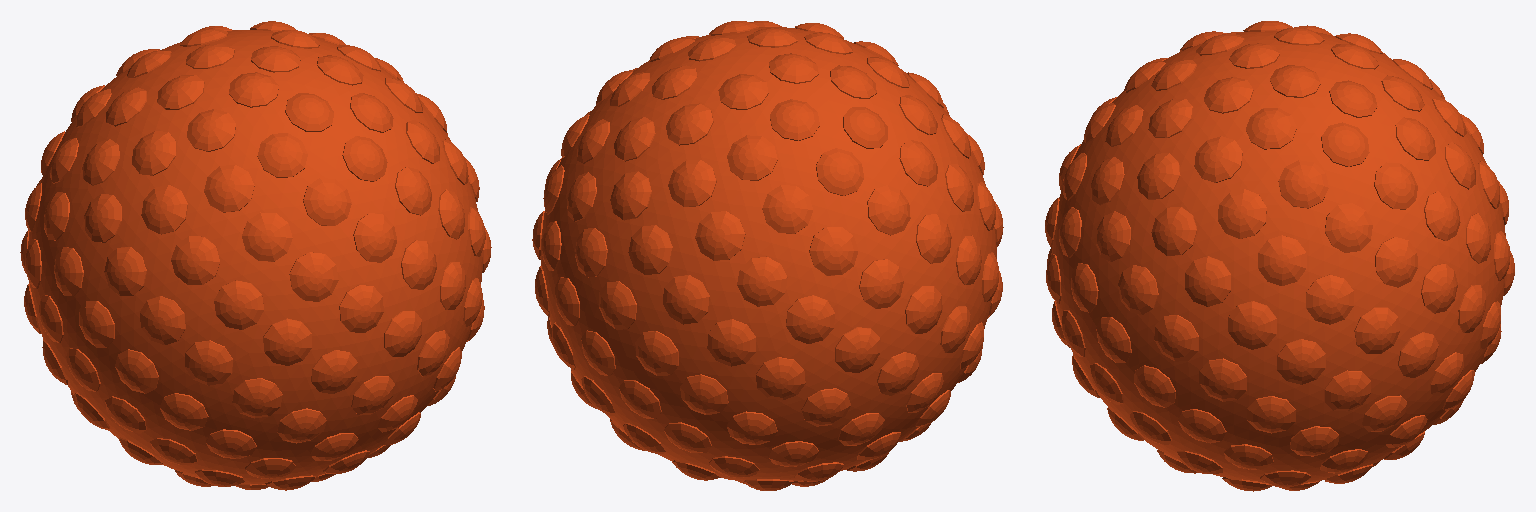
URDF robot description (cb_spikyball_spiky_cd):
<?xml version="1.0"?>
<!-- A22 textured ball (dome, 150 features, h 0.9 mm), outer R 24.0 mm, 30.0 g. Generated by FoundationTouch tools/contactbench/spikyball_assets.py (A22) -->
<robot name="cb_spikyball_spiky_cd">
  <material name="c"><color rgba="0.85 0.35 0.15 1.0"/></material>
  <link name="object">
    <visual><origin xyz="0 0 0" rpy="0 0 0"/><geometry><mesh filename="spikyball_spiky_cd.obj" scale="1 1 1"/></geometry><material name="c"/></visual>
    <collision><origin xyz="0 0 0" rpy="0 0 0"/><geometry><sphere radius="0.023100"/></geometry></collision>
    <collision><origin xyz="0 0 0" rpy="0 0 0"/><geometry><mesh filename="spike_000.obj" scale="1 1 1"/></geometry></collision>
    <collision><origin xyz="0 0 0" rpy="0 0 0"/><geometry><mesh filename="spike_001.obj" scale="1 1 1"/></geometry></collision>
    <collision><origin xyz="0 0 0" rpy="0 0 0"/><geometry><mesh filename="spike_002.obj" scale="1 1 1"/></geometry></collision>
    <collision><origin xyz="0 0 0" rpy="0 0 0"/><geometry><mesh filename="spike_003.obj" scale="1 1 1"/></geometry></collision>
    <collision><origin xyz="0 0 0" rpy="0 0 0"/><geometry><mesh filename="spike_004.obj" scale="1 1 1"/></geometry></collision>
    <collision><origin xyz="0 0 0" rpy="0 0 0"/><geometry><mesh filename="spike_005.obj" scale="1 1 1"/></geometry></collision>
    <collision><origin xyz="0 0 0" rpy="0 0 0"/><geometry><mesh filename="spike_006.obj" scale="1 1 1"/></geometry></collision>
    <collision><origin xyz="0 0 0" rpy="0 0 0"/><geometry><mesh filename="spike_007.obj" scale="1 1 1"/></geometry></collision>
    <collision><origin xyz="0 0 0" rpy="0 0 0"/><geometry><mesh filename="spike_008.obj" scale="1 1 1"/></geometry></collision>
    <collision><origin xyz="0 0 0" rpy="0 0 0"/><geometry><mesh filename="spike_009.obj" scale="1 1 1"/></geometry></collision>
    <collision><origin xyz="0 0 0" rpy="0 0 0"/><geometry><mesh filename="spike_010.obj" scale="1 1 1"/></geometry></collision>
    <collision><origin xyz="0 0 0" rpy="0 0 0"/><geometry><mesh filename="spike_011.obj" scale="1 1 1"/></geometry></collision>
    <collision><origin xyz="0 0 0" rpy="0 0 0"/><geometry><mesh filename="spike_012.obj" scale="1 1 1"/></geometry></collision>
    <collision><origin xyz="0 0 0" rpy="0 0 0"/><geometry><mesh filename="spike_013.obj" scale="1 1 1"/></geometry></collision>
    <collision><origin xyz="0 0 0" rpy="0 0 0"/><geometry><mesh filename="spike_014.obj" scale="1 1 1"/></geometry></collision>
    <collision><origin xyz="0 0 0" rpy="0 0 0"/><geometry><mesh filename="spike_015.obj" scale="1 1 1"/></geometry></collision>
    <collision><origin xyz="0 0 0" rpy="0 0 0"/><geometry><mesh filename="spike_016.obj" scale="1 1 1"/></geometry></collision>
    <collision><origin xyz="0 0 0" rpy="0 0 0"/><geometry><mesh filename="spike_017.obj" scale="1 1 1"/></geometry></collision>
    <collision><origin xyz="0 0 0" rpy="0 0 0"/><geometry><mesh filename="spike_018.obj" scale="1 1 1"/></geometry></collision>
    <collision><origin xyz="0 0 0" rpy="0 0 0"/><geometry><mesh filename="spike_019.obj" scale="1 1 1"/></geometry></collision>
    <collision><origin xyz="0 0 0" rpy="0 0 0"/><geometry><mesh filename="spike_020.obj" scale="1 1 1"/></geometry></collision>
    <collision><origin xyz="0 0 0" rpy="0 0 0"/><geometry><mesh filename="spike_021.obj" scale="1 1 1"/></geometry></collision>
    <collision><origin xyz="0 0 0" rpy="0 0 0"/><geometry><mesh filename="spike_022.obj" scale="1 1 1"/></geometry></collision>
    <collision><origin xyz="0 0 0" rpy="0 0 0"/><geometry><mesh filename="spike_023.obj" scale="1 1 1"/></geometry></collision>
    <collision><origin xyz="0 0 0" rpy="0 0 0"/><geometry><mesh filename="spike_024.obj" scale="1 1 1"/></geometry></collision>
    <collision><origin xyz="0 0 0" rpy="0 0 0"/><geometry><mesh filename="spike_025.obj" scale="1 1 1"/></geometry></collision>
    <collision><origin xyz="0 0 0" rpy="0 0 0"/><geometry><mesh filename="spike_026.obj" scale="1 1 1"/></geometry></collision>
    <collision><origin xyz="0 0 0" rpy="0 0 0"/><geometry><mesh filename="spike_027.obj" scale="1 1 1"/></geometry></collision>
    <collision><origin xyz="0 0 0" rpy="0 0 0"/><geometry><mesh filename="spike_028.obj" scale="1 1 1"/></geometry></collision>
    <collision><origin xyz="0 0 0" rpy="0 0 0"/><geometry><mesh filename="spike_029.obj" scale="1 1 1"/></geometry></collision>
    <collision><origin xyz="0 0 0" rpy="0 0 0"/><geometry><mesh filename="spike_030.obj" scale="1 1 1"/></geometry></collision>
    <collision><origin xyz="0 0 0" rpy="0 0 0"/><geometry><mesh filename="spike_031.obj" scale="1 1 1"/></geometry></collision>
    <collision><origin xyz="0 0 0" rpy="0 0 0"/><geometry><mesh filename="spike_032.obj" scale="1 1 1"/></geometry></collision>
    <collision><origin xyz="0 0 0" rpy="0 0 0"/><geometry><mesh filename="spike_033.obj" scale="1 1 1"/></geometry></collision>
    <collision><origin xyz="0 0 0" rpy="0 0 0"/><geometry><mesh filename="spike_034.obj" scale="1 1 1"/></geometry></collision>
    <collision><origin xyz="0 0 0" rpy="0 0 0"/><geometry><mesh filename="spike_035.obj" scale="1 1 1"/></geometry></collision>
    <collision><origin xyz="0 0 0" rpy="0 0 0"/><geometry><mesh filename="spike_036.obj" scale="1 1 1"/></geometry></collision>
    <collision><origin xyz="0 0 0" rpy="0 0 0"/><geometry><mesh filename="spike_037.obj" scale="1 1 1"/></geometry></collision>
    <collision><origin xyz="0 0 0" rpy="0 0 0"/><geometry><mesh filename="spike_038.obj" scale="1 1 1"/></geometry></collision>
    <collision><origin xyz="0 0 0" rpy="0 0 0"/><geometry><mesh filename="spike_039.obj" scale="1 1 1"/></geometry></collision>
    <collision><origin xyz="0 0 0" rpy="0 0 0"/><geometry><mesh filename="spike_040.obj" scale="1 1 1"/></geometry></collision>
    <collision><origin xyz="0 0 0" rpy="0 0 0"/><geometry><mesh filename="spike_041.obj" scale="1 1 1"/></geometry></collision>
    <collision><origin xyz="0 0 0" rpy="0 0 0"/><geometry><mesh filename="spike_042.obj" scale="1 1 1"/></geometry></collision>
    <collision><origin xyz="0 0 0" rpy="0 0 0"/><geometry><mesh filename="spike_043.obj" scale="1 1 1"/></geometry></collision>
    <collision><origin xyz="0 0 0" rpy="0 0 0"/><geometry><mesh filename="spike_044.obj" scale="1 1 1"/></geometry></collision>
    <collision><origin xyz="0 0 0" rpy="0 0 0"/><geometry><mesh filename="spike_045.obj" scale="1 1 1"/></geometry></collision>
    <collision><origin xyz="0 0 0" rpy="0 0 0"/><geometry><mesh filename="spike_046.obj" scale="1 1 1"/></geometry></collision>
    <collision><origin xyz="0 0 0" rpy="0 0 0"/><geometry><mesh filename="spike_047.obj" scale="1 1 1"/></geometry></collision>
    <collision><origin xyz="0 0 0" rpy="0 0 0"/><geometry><mesh filename="spike_048.obj" scale="1 1 1"/></geometry></collision>
    <collision><origin xyz="0 0 0" rpy="0 0 0"/><geometry><mesh filename="spike_049.obj" scale="1 1 1"/></geometry></collision>
    <collision><origin xyz="0 0 0" rpy="0 0 0"/><geometry><mesh filename="spike_050.obj" scale="1 1 1"/></geometry></collision>
    <collision><origin xyz="0 0 0" rpy="0 0 0"/><geometry><mesh filename="spike_051.obj" scale="1 1 1"/></geometry></collision>
    <collision><origin xyz="0 0 0" rpy="0 0 0"/><geometry><mesh filename="spike_052.obj" scale="1 1 1"/></geometry></collision>
    <collision><origin xyz="0 0 0" rpy="0 0 0"/><geometry><mesh filename="spike_053.obj" scale="1 1 1"/></geometry></collision>
    <collision><origin xyz="0 0 0" rpy="0 0 0"/><geometry><mesh filename="spike_054.obj" scale="1 1 1"/></geometry></collision>
    <collision><origin xyz="0 0 0" rpy="0 0 0"/><geometry><mesh filename="spike_055.obj" scale="1 1 1"/></geometry></collision>
    <collision><origin xyz="0 0 0" rpy="0 0 0"/><geometry><mesh filename="spike_056.obj" scale="1 1 1"/></geometry></collision>
    <collision><origin xyz="0 0 0" rpy="0 0 0"/><geometry><mesh filename="spike_057.obj" scale="1 1 1"/></geometry></collision>
    <collision><origin xyz="0 0 0" rpy="0 0 0"/><geometry><mesh filename="spike_058.obj" scale="1 1 1"/></geometry></collision>
    <collision><origin xyz="0 0 0" rpy="0 0 0"/><geometry><mesh filename="spike_059.obj" scale="1 1 1"/></geometry></collision>
    <collision><origin xyz="0 0 0" rpy="0 0 0"/><geometry><mesh filename="spike_060.obj" scale="1 1 1"/></geometry></collision>
    <collision><origin xyz="0 0 0" rpy="0 0 0"/><geometry><mesh filename="spike_061.obj" scale="1 1 1"/></geometry></collision>
    <collision><origin xyz="0 0 0" rpy="0 0 0"/><geometry><mesh filename="spike_062.obj" scale="1 1 1"/></geometry></collision>
    <collision><origin xyz="0 0 0" rpy="0 0 0"/><geometry><mesh filename="spike_063.obj" scale="1 1 1"/></geometry></collision>
    <collision><origin xyz="0 0 0" rpy="0 0 0"/><geometry><mesh filename="spike_064.obj" scale="1 1 1"/></geometry></collision>
    <collision><origin xyz="0 0 0" rpy="0 0 0"/><geometry><mesh filename="spike_065.obj" scale="1 1 1"/></geometry></collision>
    <collision><origin xyz="0 0 0" rpy="0 0 0"/><geometry><mesh filename="spike_066.obj" scale="1 1 1"/></geometry></collision>
    <collision><origin xyz="0 0 0" rpy="0 0 0"/><geometry><mesh filename="spike_067.obj" scale="1 1 1"/></geometry></collision>
    <collision><origin xyz="0 0 0" rpy="0 0 0"/><geometry><mesh filename="spike_068.obj" scale="1 1 1"/></geometry></collision>
    <collision><origin xyz="0 0 0" rpy="0 0 0"/><geometry><mesh filename="spike_069.obj" scale="1 1 1"/></geometry></collision>
    <collision><origin xyz="0 0 0" rpy="0 0 0"/><geometry><mesh filename="spike_070.obj" scale="1 1 1"/></geometry></collision>
    <collision><origin xyz="0 0 0" rpy="0 0 0"/><geometry><mesh filename="spike_071.obj" scale="1 1 1"/></geometry></collision>
    <collision><origin xyz="0 0 0" rpy="0 0 0"/><geometry><mesh filename="spike_072.obj" scale="1 1 1"/></geometry></collision>
    <collision><origin xyz="0 0 0" rpy="0 0 0"/><geometry><mesh filename="spike_073.obj" scale="1 1 1"/></geometry></collision>
    <collision><origin xyz="0 0 0" rpy="0 0 0"/><geometry><mesh filename="spike_074.obj" scale="1 1 1"/></geometry></collision>
    <collision><origin xyz="0 0 0" rpy="0 0 0"/><geometry><mesh filename="spike_075.obj" scale="1 1 1"/></geometry></collision>
    <collision><origin xyz="0 0 0" rpy="0 0 0"/><geometry><mesh filename="spike_076.obj" scale="1 1 1"/></geometry></collision>
    <collision><origin xyz="0 0 0" rpy="0 0 0"/><geometry><mesh filename="spike_077.obj" scale="1 1 1"/></geometry></collision>
    <collision><origin xyz="0 0 0" rpy="0 0 0"/><geometry><mesh filename="spike_078.obj" scale="1 1 1"/></geometry></collision>
    <collision><origin xyz="0 0 0" rpy="0 0 0"/><geometry><mesh filename="spike_079.obj" scale="1 1 1"/></geometry></collision>
    <collision><origin xyz="0 0 0" rpy="0 0 0"/><geometry><mesh filename="spike_080.obj" scale="1 1 1"/></geometry></collision>
    <collision><origin xyz="0 0 0" rpy="0 0 0"/><geometry><mesh filename="spike_081.obj" scale="1 1 1"/></geometry></collision>
    <collision><origin xyz="0 0 0" rpy="0 0 0"/><geometry><mesh filename="spike_082.obj" scale="1 1 1"/></geometry></collision>
    <collision><origin xyz="0 0 0" rpy="0 0 0"/><geometry><mesh filename="spike_083.obj" scale="1 1 1"/></geometry></collision>
    <collision><origin xyz="0 0 0" rpy="0 0 0"/><geometry><mesh filename="spike_084.obj" scale="1 1 1"/></geometry></collision>
    <collision><origin xyz="0 0 0" rpy="0 0 0"/><geometry><mesh filename="spike_085.obj" scale="1 1 1"/></geometry></collision>
    <collision><origin xyz="0 0 0" rpy="0 0 0"/><geometry><mesh filename="spike_086.obj" scale="1 1 1"/></geometry></collision>
    <collision><origin xyz="0 0 0" rpy="0 0 0"/><geometry><mesh filename="spike_087.obj" scale="1 1 1"/></geometry></collision>
    <collision><origin xyz="0 0 0" rpy="0 0 0"/><geometry><mesh filename="spike_088.obj" scale="1 1 1"/></geometry></collision>
    <collision><origin xyz="0 0 0" rpy="0 0 0"/><geometry><mesh filename="spike_089.obj" scale="1 1 1"/></geometry></collision>
    <collision><origin xyz="0 0 0" rpy="0 0 0"/><geometry><mesh filename="spike_090.obj" scale="1 1 1"/></geometry></collision>
    <collision><origin xyz="0 0 0" rpy="0 0 0"/><geometry><mesh filename="spike_091.obj" scale="1 1 1"/></geometry></collision>
    <collision><origin xyz="0 0 0" rpy="0 0 0"/><geometry><mesh filename="spike_092.obj" scale="1 1 1"/></geometry></collision>
    <collision><origin xyz="0 0 0" rpy="0 0 0"/><geometry><mesh filename="spike_093.obj" scale="1 1 1"/></geometry></collision>
    <collision><origin xyz="0 0 0" rpy="0 0 0"/><geometry><mesh filename="spike_094.obj" scale="1 1 1"/></geometry></collision>
    <collision><origin xyz="0 0 0" rpy="0 0 0"/><geometry><mesh filename="spike_095.obj" scale="1 1 1"/></geometry></collision>
    <collision><origin xyz="0 0 0" rpy="0 0 0"/><geometry><mesh filename="spike_096.obj" scale="1 1 1"/></geometry></collision>
    <collision><origin xyz="0 0 0" rpy="0 0 0"/><geometry><mesh filename="spike_097.obj" scale="1 1 1"/></geometry></collision>
    <collision><origin xyz="0 0 0" rpy="0 0 0"/><geometry><mesh filename="spike_098.obj" scale="1 1 1"/></geometry></collision>
    <collision><origin xyz="0 0 0" rpy="0 0 0"/><geometry><mesh filename="spike_099.obj" scale="1 1 1"/></geometry></collision>
    <collision><origin xyz="0 0 0" rpy="0 0 0"/><geometry><mesh filename="spike_100.obj" scale="1 1 1"/></geometry></collision>
    <collision><origin xyz="0 0 0" rpy="0 0 0"/><geometry><mesh filename="spike_101.obj" scale="1 1 1"/></geometry></collision>
    <collision><origin xyz="0 0 0" rpy="0 0 0"/><geometry><mesh filename="spike_102.obj" scale="1 1 1"/></geometry></collision>
    <collision><origin xyz="0 0 0" rpy="0 0 0"/><geometry><mesh filename="spike_103.obj" scale="1 1 1"/></geometry></collision>
    <collision><origin xyz="0 0 0" rpy="0 0 0"/><geometry><mesh filename="spike_104.obj" scale="1 1 1"/></geometry></collision>
    <collision><origin xyz="0 0 0" rpy="0 0 0"/><geometry><mesh filename="spike_105.obj" scale="1 1 1"/></geometry></collision>
    <collision><origin xyz="0 0 0" rpy="0 0 0"/><geometry><mesh filename="spike_106.obj" scale="1 1 1"/></geometry></collision>
    <collision><origin xyz="0 0 0" rpy="0 0 0"/><geometry><mesh filename="spike_107.obj" scale="1 1 1"/></geometry></collision>
    <collision><origin xyz="0 0 0" rpy="0 0 0"/><geometry><mesh filename="spike_108.obj" scale="1 1 1"/></geometry></collision>
    <collision><origin xyz="0 0 0" rpy="0 0 0"/><geometry><mesh filename="spike_109.obj" scale="1 1 1"/></geometry></collision>
    <collision><origin xyz="0 0 0" rpy="0 0 0"/><geometry><mesh filename="spike_110.obj" scale="1 1 1"/></geometry></collision>
    <collision><origin xyz="0 0 0" rpy="0 0 0"/><geometry><mesh filename="spike_111.obj" scale="1 1 1"/></geometry></collision>
    <collision><origin xyz="0 0 0" rpy="0 0 0"/><geometry><mesh filename="spike_112.obj" scale="1 1 1"/></geometry></collision>
    <collision><origin xyz="0 0 0" rpy="0 0 0"/><geometry><mesh filename="spike_113.obj" scale="1 1 1"/></geometry></collision>
    <collision><origin xyz="0 0 0" rpy="0 0 0"/><geometry><mesh filename="spike_114.obj" scale="1 1 1"/></geometry></collision>
    <collision><origin xyz="0 0 0" rpy="0 0 0"/><geometry><mesh filename="spike_115.obj" scale="1 1 1"/></geometry></collision>
    <collision><origin xyz="0 0 0" rpy="0 0 0"/><geometry><mesh filename="spike_116.obj" scale="1 1 1"/></geometry></collision>
    <collision><origin xyz="0 0 0" rpy="0 0 0"/><geometry><mesh filename="spike_117.obj" scale="1 1 1"/></geometry></collision>
    <collision><origin xyz="0 0 0" rpy="0 0 0"/><geometry><mesh filename="spike_118.obj" scale="1 1 1"/></geometry></collision>
    <collision><origin xyz="0 0 0" rpy="0 0 0"/><geometry><mesh filename="spike_119.obj" scale="1 1 1"/></geometry></collision>
    <collision><origin xyz="0 0 0" rpy="0 0 0"/><geometry><mesh filename="spike_120.obj" scale="1 1 1"/></geometry></collision>
    <collision><origin xyz="0 0 0" rpy="0 0 0"/><geometry><mesh filename="spike_121.obj" scale="1 1 1"/></geometry></collision>
    <collision><origin xyz="0 0 0" rpy="0 0 0"/><geometry><mesh filename="spike_122.obj" scale="1 1 1"/></geometry></collision>
    <collision><origin xyz="0 0 0" rpy="0 0 0"/><geometry><mesh filename="spike_123.obj" scale="1 1 1"/></geometry></collision>
    <collision><origin xyz="0 0 0" rpy="0 0 0"/><geometry><mesh filename="spike_124.obj" scale="1 1 1"/></geometry></collision>
    <collision><origin xyz="0 0 0" rpy="0 0 0"/><geometry><mesh filename="spike_125.obj" scale="1 1 1"/></geometry></collision>
    <collision><origin xyz="0 0 0" rpy="0 0 0"/><geometry><mesh filename="spike_126.obj" scale="1 1 1"/></geometry></collision>
    <collision><origin xyz="0 0 0" rpy="0 0 0"/><geometry><mesh filename="spike_127.obj" scale="1 1 1"/></geometry></collision>
    <collision><origin xyz="0 0 0" rpy="0 0 0"/><geometry><mesh filename="spike_128.obj" scale="1 1 1"/></geometry></collision>
    <collision><origin xyz="0 0 0" rpy="0 0 0"/><geometry><mesh filename="spike_129.obj" scale="1 1 1"/></geometry></collision>
    <collision><origin xyz="0 0 0" rpy="0 0 0"/><geometry><mesh filename="spike_130.obj" scale="1 1 1"/></geometry></collision>
    <collision><origin xyz="0 0 0" rpy="0 0 0"/><geometry><mesh filename="spike_131.obj" scale="1 1 1"/></geometry></collision>
    <collision><origin xyz="0 0 0" rpy="0 0 0"/><geometry><mesh filename="spike_132.obj" scale="1 1 1"/></geometry></collision>
    <collision><origin xyz="0 0 0" rpy="0 0 0"/><geometry><mesh filename="spike_133.obj" scale="1 1 1"/></geometry></collision>
    <collision><origin xyz="0 0 0" rpy="0 0 0"/><geometry><mesh filename="spike_134.obj" scale="1 1 1"/></geometry></collision>
    <collision><origin xyz="0 0 0" rpy="0 0 0"/><geometry><mesh filename="spike_135.obj" scale="1 1 1"/></geometry></collision>
    <collision><origin xyz="0 0 0" rpy="0 0 0"/><geometry><mesh filename="spike_136.obj" scale="1 1 1"/></geometry></collision>
    <collision><origin xyz="0 0 0" rpy="0 0 0"/><geometry><mesh filename="spike_137.obj" scale="1 1 1"/></geometry></collision>
    <collision><origin xyz="0 0 0" rpy="0 0 0"/><geometry><mesh filename="spike_138.obj" scale="1 1 1"/></geometry></collision>
    <collision><origin xyz="0 0 0" rpy="0 0 0"/><geometry><mesh filename="spike_139.obj" scale="1 1 1"/></geometry></collision>
    <collision><origin xyz="0 0 0" rpy="0 0 0"/><geometry><mesh filename="spike_140.obj" scale="1 1 1"/></geometry></collision>
    <collision><origin xyz="0 0 0" rpy="0 0 0"/><geometry><mesh filename="spike_141.obj" scale="1 1 1"/></geometry></collision>
    <collision><origin xyz="0 0 0" rpy="0 0 0"/><geometry><mesh filename="spike_142.obj" scale="1 1 1"/></geometry></collision>
    <collision><origin xyz="0 0 0" rpy="0 0 0"/><geometry><mesh filename="spike_143.obj" scale="1 1 1"/></geometry></collision>
    <collision><origin xyz="0 0 0" rpy="0 0 0"/><geometry><mesh filename="spike_144.obj" scale="1 1 1"/></geometry></collision>
    <collision><origin xyz="0 0 0" rpy="0 0 0"/><geometry><mesh filename="spike_145.obj" scale="1 1 1"/></geometry></collision>
    <collision><origin xyz="0 0 0" rpy="0 0 0"/><geometry><mesh filename="spike_146.obj" scale="1 1 1"/></geometry></collision>
    <collision><origin xyz="0 0 0" rpy="0 0 0"/><geometry><mesh filename="spike_147.obj" scale="1 1 1"/></geometry></collision>
    <collision><origin xyz="0 0 0" rpy="0 0 0"/><geometry><mesh filename="spike_148.obj" scale="1 1 1"/></geometry></collision>
    <collision><origin xyz="0 0 0" rpy="0 0 0"/><geometry><mesh filename="spike_149.obj" scale="1 1 1"/></geometry></collision>
    <inertial><mass value="0.030000"/><origin xyz="0 0 0" rpy="0 0 0"/><inertia ixx="6.912000e-06" ixy="0" ixz="0" iyy="6.912000e-06" iyz="0" izz="6.912000e-06"/></inertial>
  </link>
</robot>

--- What the picture shows (computed from the rendered views, not written in the file) ---
Views: 3 orthographic renders of the robot side by side, from view 1: azimuth 30°, elevation 25°; view 2: azimuth 150°, elevation 25°; view 3: azimuth 270°, elevation 25°.
Robot: cb_spikyball_spiky_cd — 1 links, 0 joints (none); root link object; default pose: all joints at 0.
Visible links, largest first — view 1: object; view 2: object; view 3: object.
Boxes of the visible links, <box> form: object: <box>20,21,491,490</box>; object: <box>532,21,1003,490</box>; object: <box>1045,21,1514,491</box>.
Bounding box of the posed robot: 0.0477 × 0.0477 × 0.0477 m (x, y, z).
Meshes: 1 distinct files referenced, 1 mesh visuals loaded (1 OBJ).
